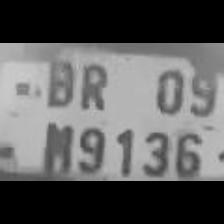0: (148, 62, 186, 114)
1: (106, 121, 138, 177)
3: (136, 121, 170, 177)
6: (168, 123, 206, 177)
9: (186, 53, 220, 114), (74, 120, 106, 176)
B: (38, 50, 74, 106)
R: (72, 56, 110, 112)
